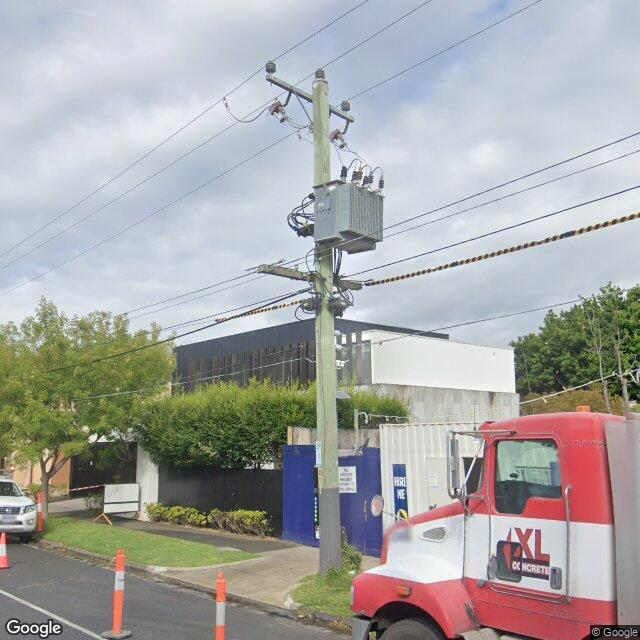HV-transmission: (266, 62, 350, 149)
crossarm: (266, 75, 354, 123), (258, 264, 360, 290)
timber-pole: (312, 80, 342, 574)
transformer: (312, 166, 384, 255)
